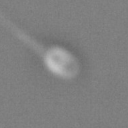normal: (1, 11, 45, 55)
